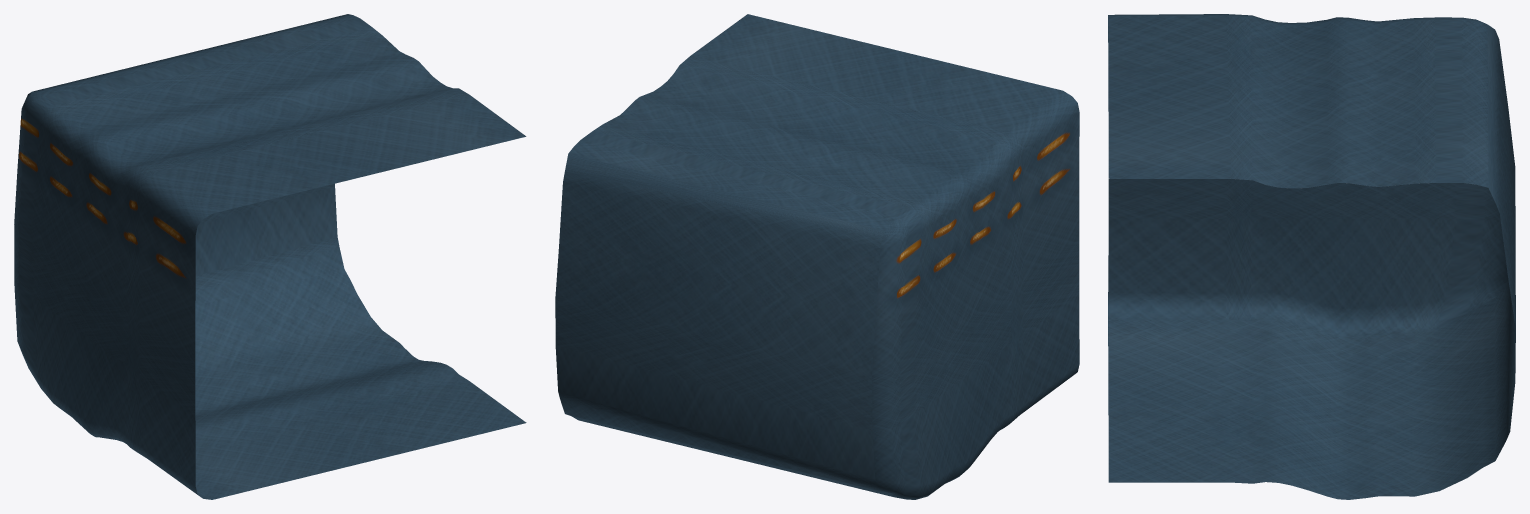
File: tl_flyL.FBX
3 views of the same model, side by side, from view 1: azimuth 30°, elevation 25°; view 2: azimuth 150°, elevation 25°; view 3: azimuth 270°, elevation 25° (orthographic). The views are drawn at different scales.
Parts seen in each view (by area): view 1: tl_flyL_MESH; view 2: tl_flyL_MESH; view 3: tl_flyL_MESH.
Part boxes in pixels (x1,y1,x2,y2): tl_flyL_MESH: [14, 14, 526, 499]; tl_flyL_MESH: [555, 14, 1079, 499]; tl_flyL_MESH: [1108, 14, 1515, 499].
Size of the model in its own units: 100 by 87.33 by 101.
